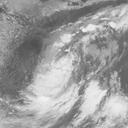cyclone: (31, 45, 77, 94)
